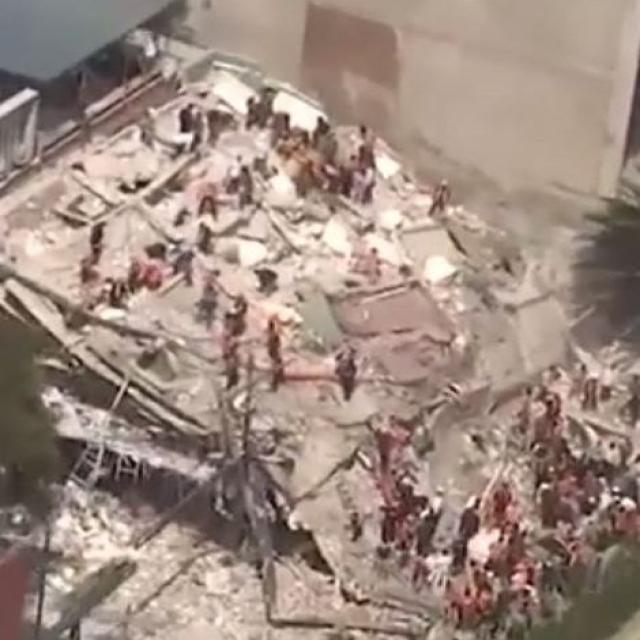collapsed_building: (0, 55, 545, 503)
